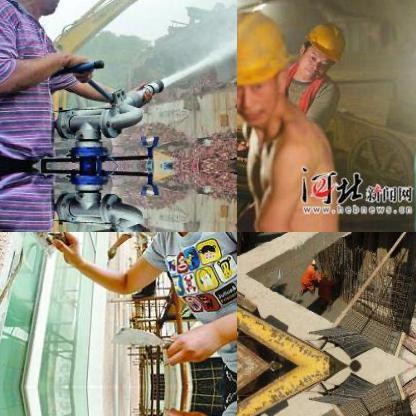Helmet: (237, 9, 288, 123), (297, 18, 346, 80)
